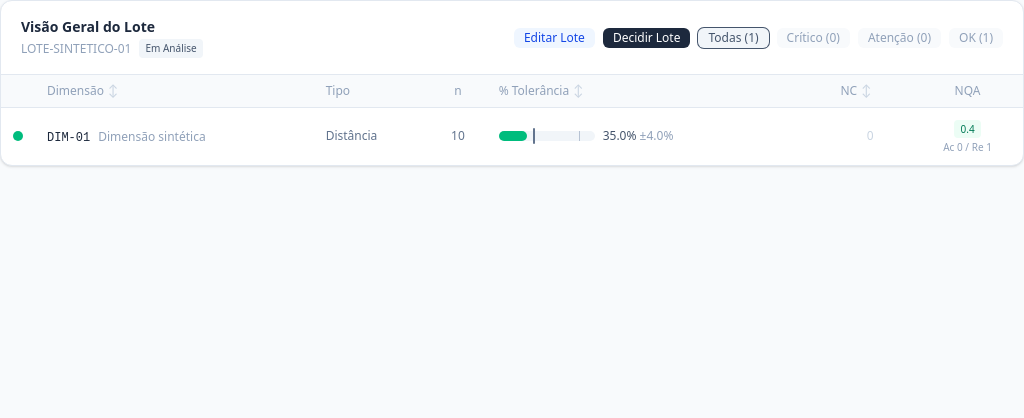
Test: BatchOverviewTable › bloqueia a decisão quando o resumo de NQA falha
The width and height of the screenshot is (1024, 418).
Click the button "Decidir Lote": click(647, 38) x1=603 y1=28 x2=690 y2=48
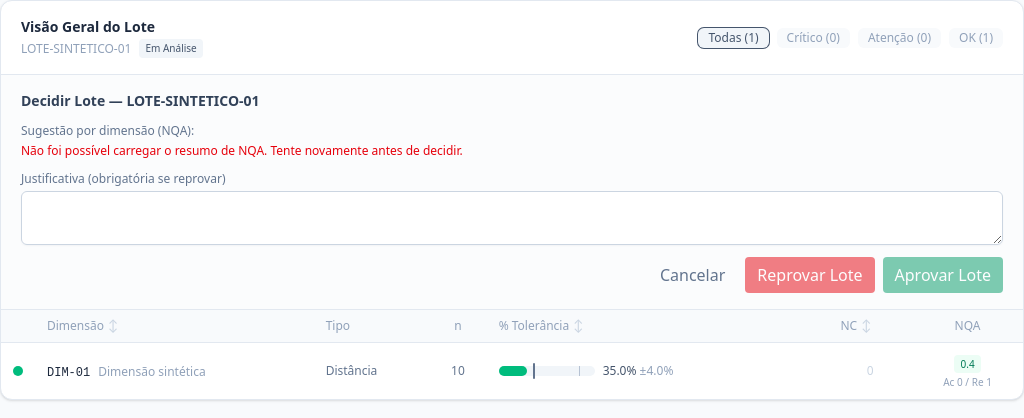
Expected: the text "Não foi possível carregar o resumo de NQA. Tente novamente antes de decidir." is shown, x1=21 y1=142 x2=463 y2=159
Expected: the button "Aprovar Lote" is disabled, x1=882 y1=257 x2=1003 y2=293
Expected: the button "Reprovar Lote" is disabled, x1=745 y1=257 x2=874 y2=293
